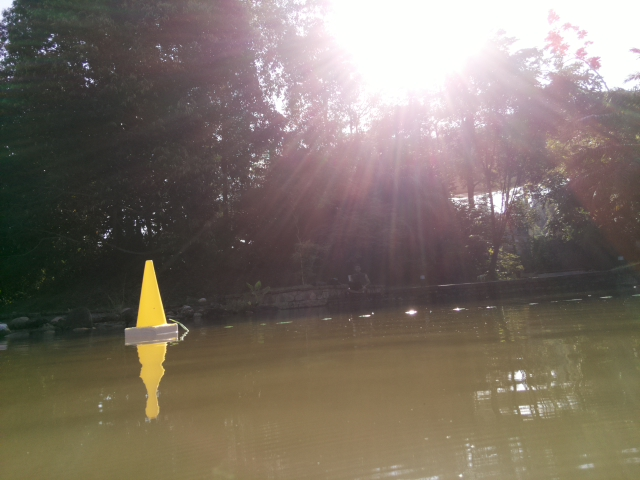checkpoint: (123, 260, 177, 338)
